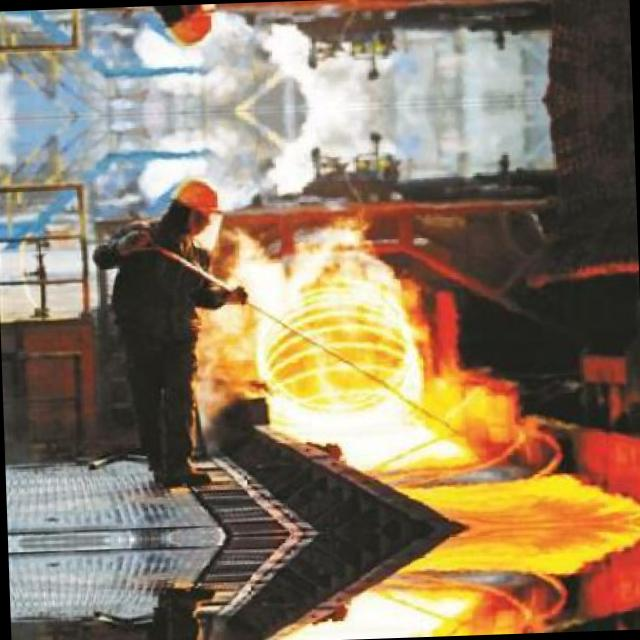helmet: (167, 170, 224, 230), (161, 4, 220, 53)
